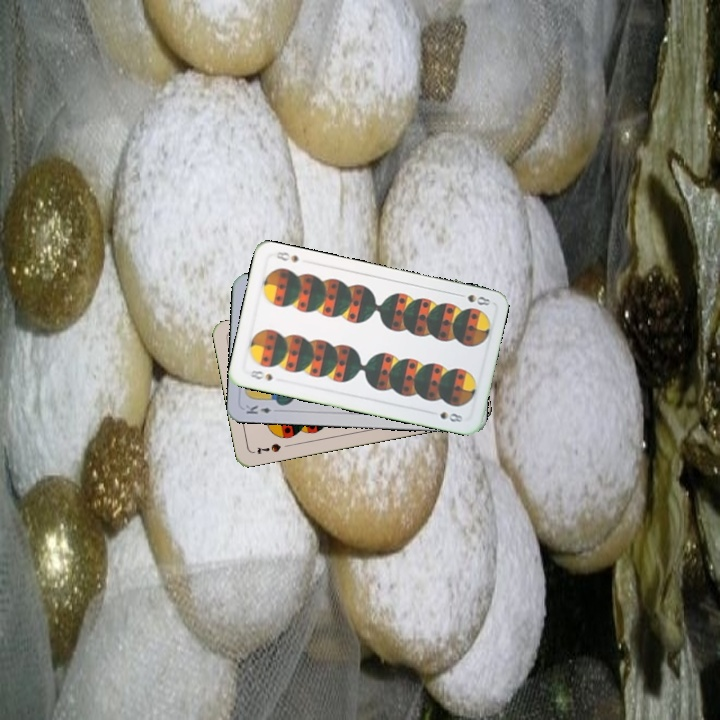EK: (242, 401, 274, 417)
S7: (253, 439, 284, 457)
S8: (453, 290, 493, 308), (246, 366, 275, 383)
